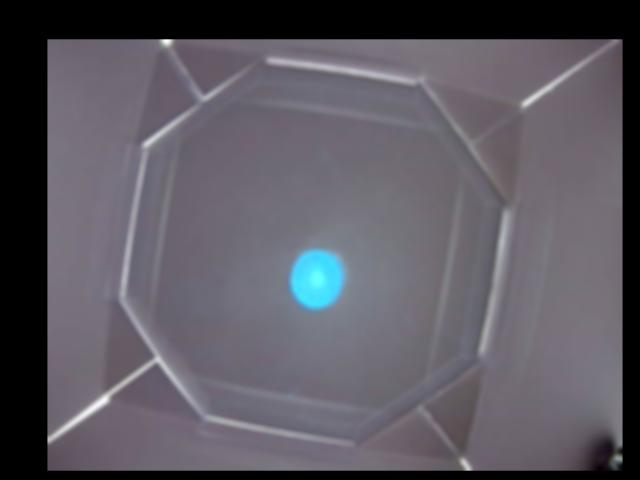Carrot: (290, 251, 343, 308)
